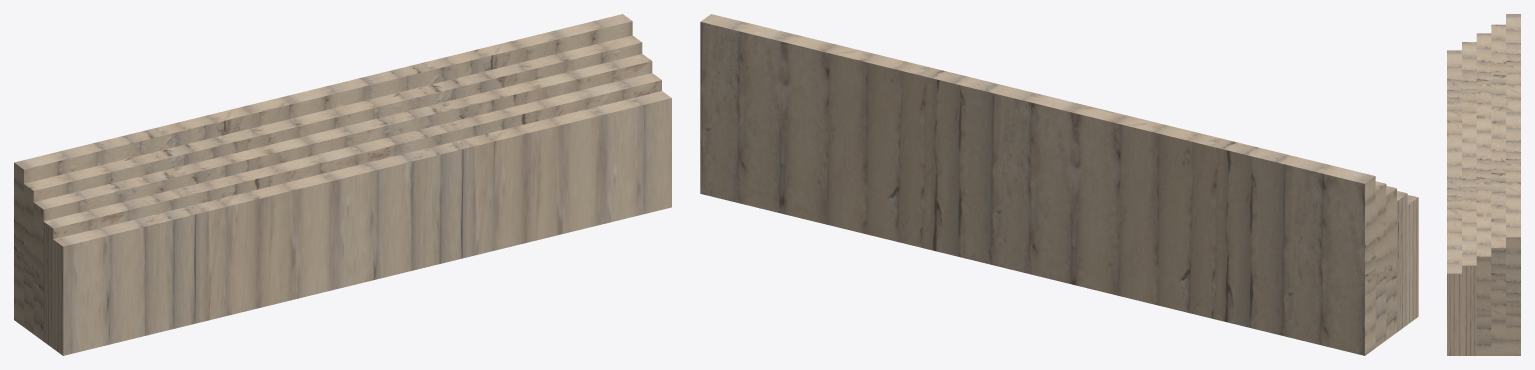
Rendered from Stairs.001.obj.
3 views of the same model, side by side, from view 1: azimuth 30°, elevation 25°; view 2: azimuth 150°, elevation 25°; view 3: azimuth 270°, elevation 25° (orthographic). The views are drawn at different scales.
Visible parts, largest first — view 1: Stairs.001_Cube.030; view 2: Stairs.001_Cube.030; view 3: Stairs.001_Cube.030.
Part boxes in pixels (x1=…): Stairs.001_Cube.030: x1=14, y1=14, x2=671, y2=355; Stairs.001_Cube.030: x1=700, y1=14, x2=1418, y2=355; Stairs.001_Cube.030: x1=1447, y1=14, x2=1520, y2=355.
Bounding box in the file's own units: 4.98 × 1.23 × 0.6956.
